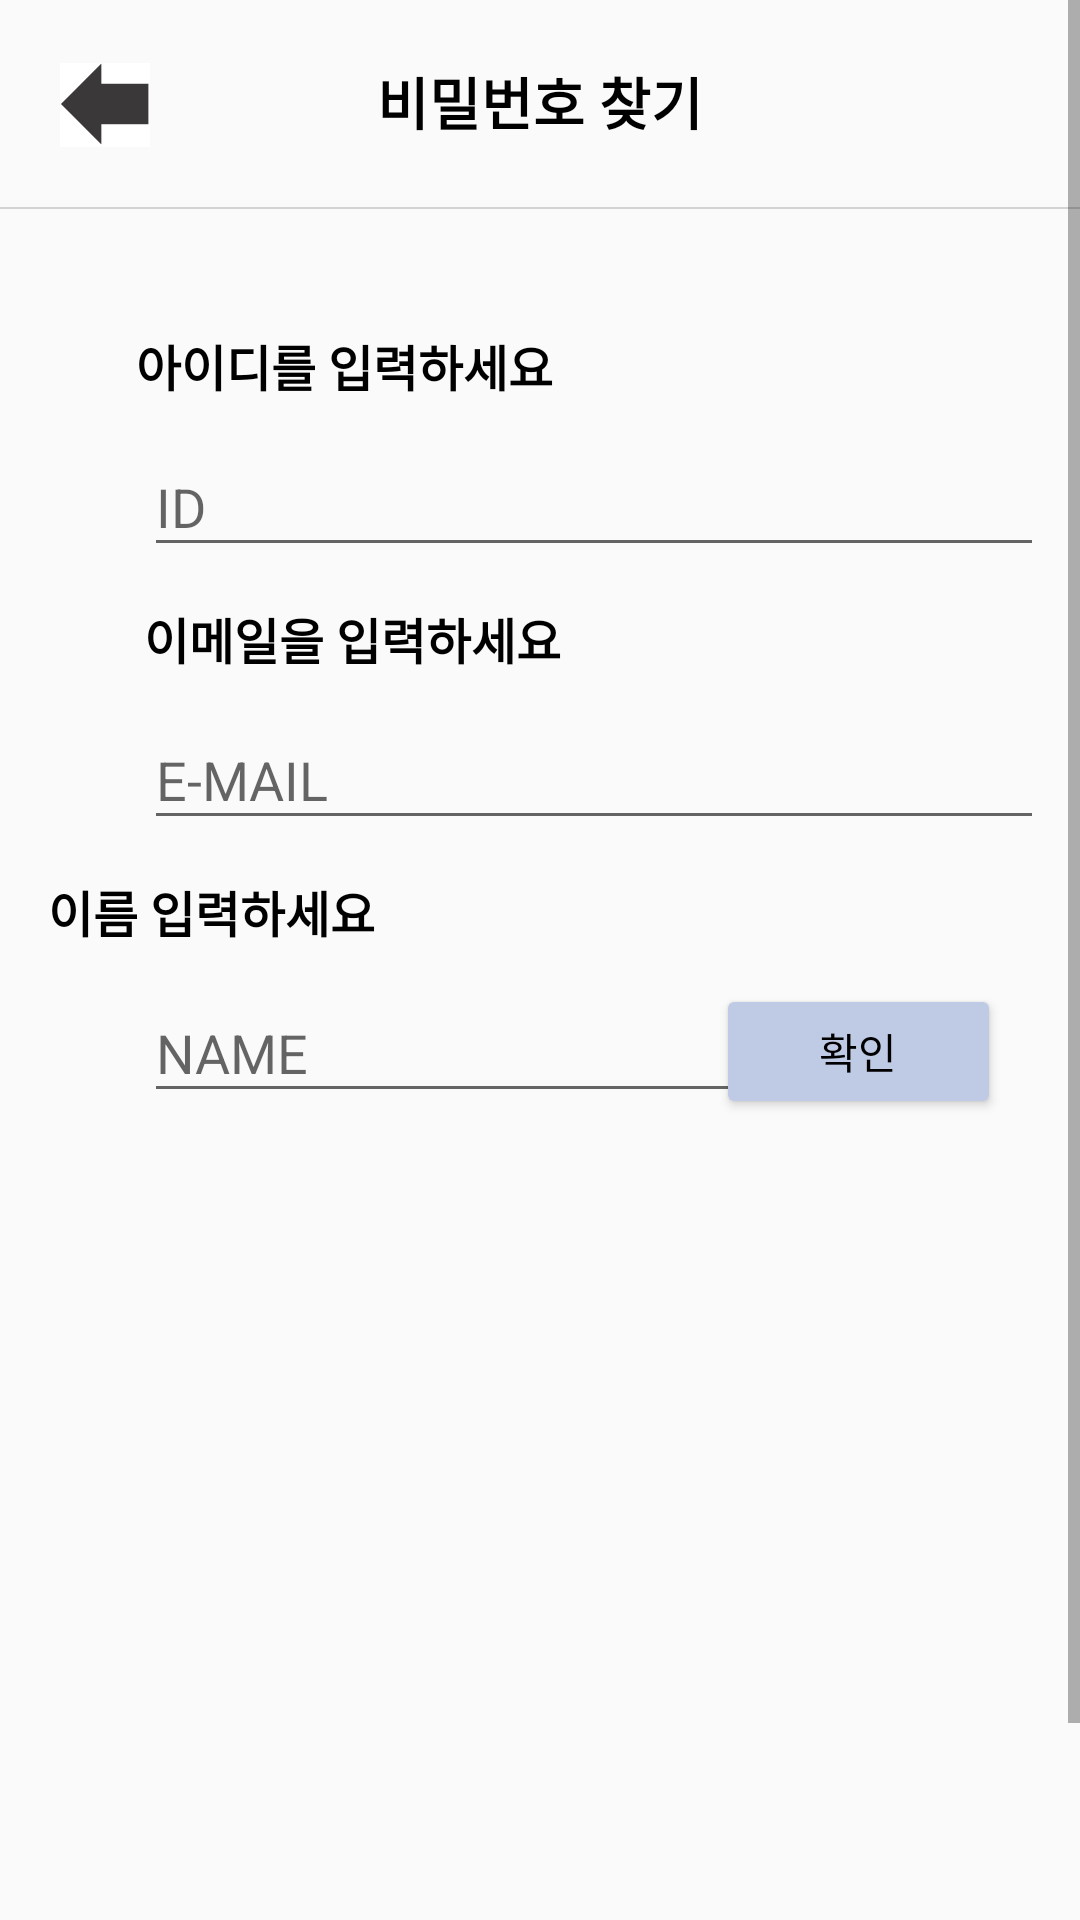

Where to tap for icons on this 1080*1920 app screen, as point (x, y):
back: point (105, 104)
